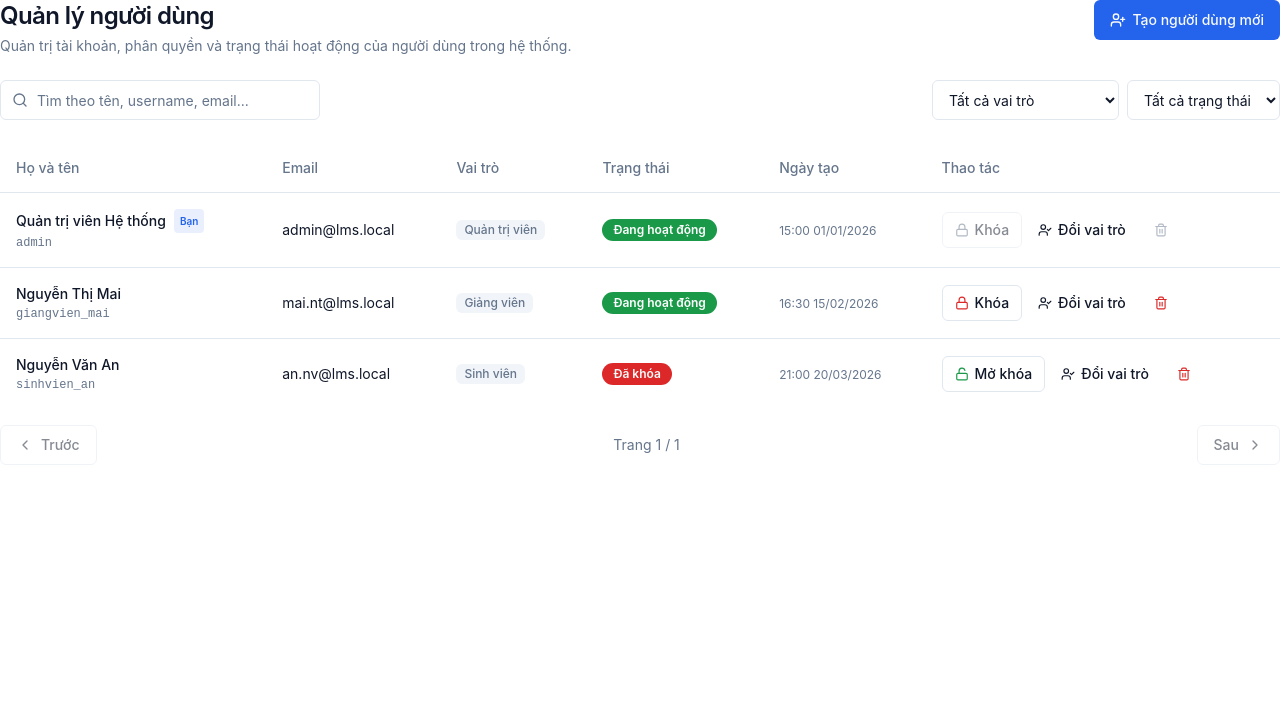
it: AdminUsersPage (US-02 Quản lý người dùng) › handles HTTP errors (401, 403, 422, 429) when creating a user
Expected: the text "Nguyễn Thị Mai" is shown, [16,284,121,304]
Click the button "Tạo người dùng mới" at [1187, 20], box [1094,0,1279,40]
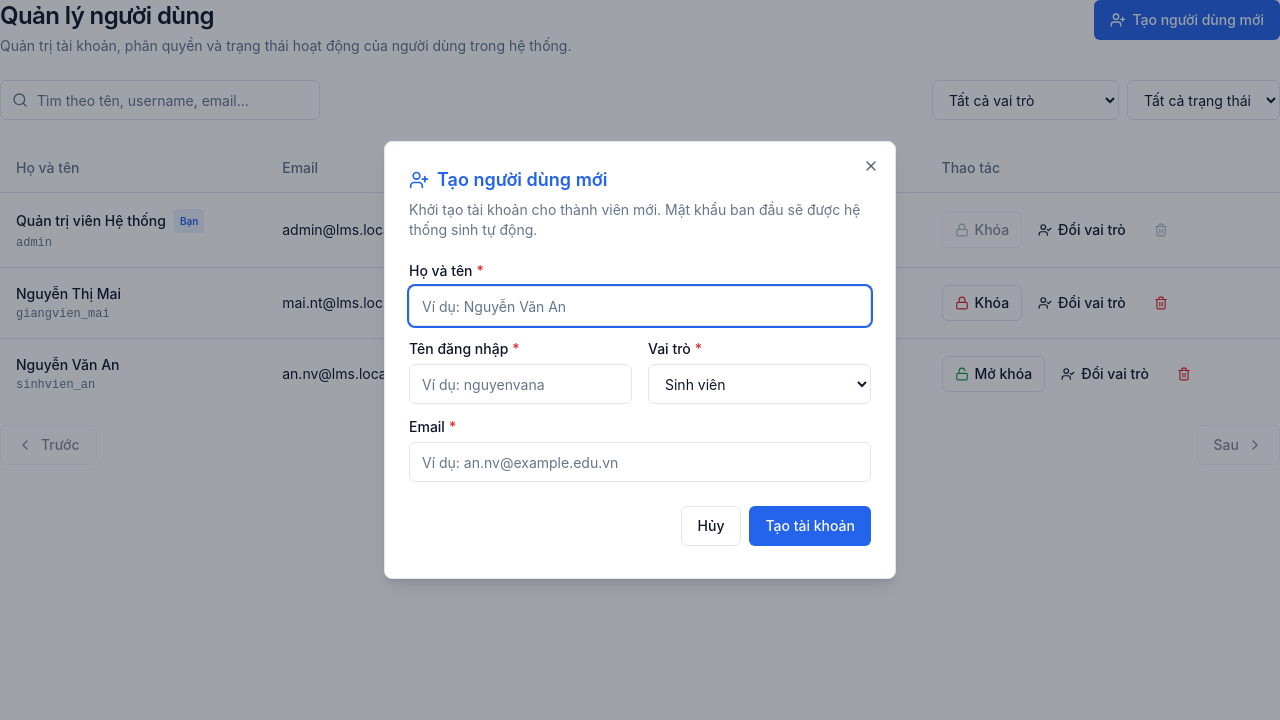
Type "Test Error" into the field labelled "Họ và tên*" at [640, 306], box [409,286,871,326]
Type "testerror" into the field labelled "Tên đăng nhập*" at [520, 384], box [409,364,632,404]
Type "test@lms.local" into the field labelled "Email*" at [640, 462], box [409,442,871,482]
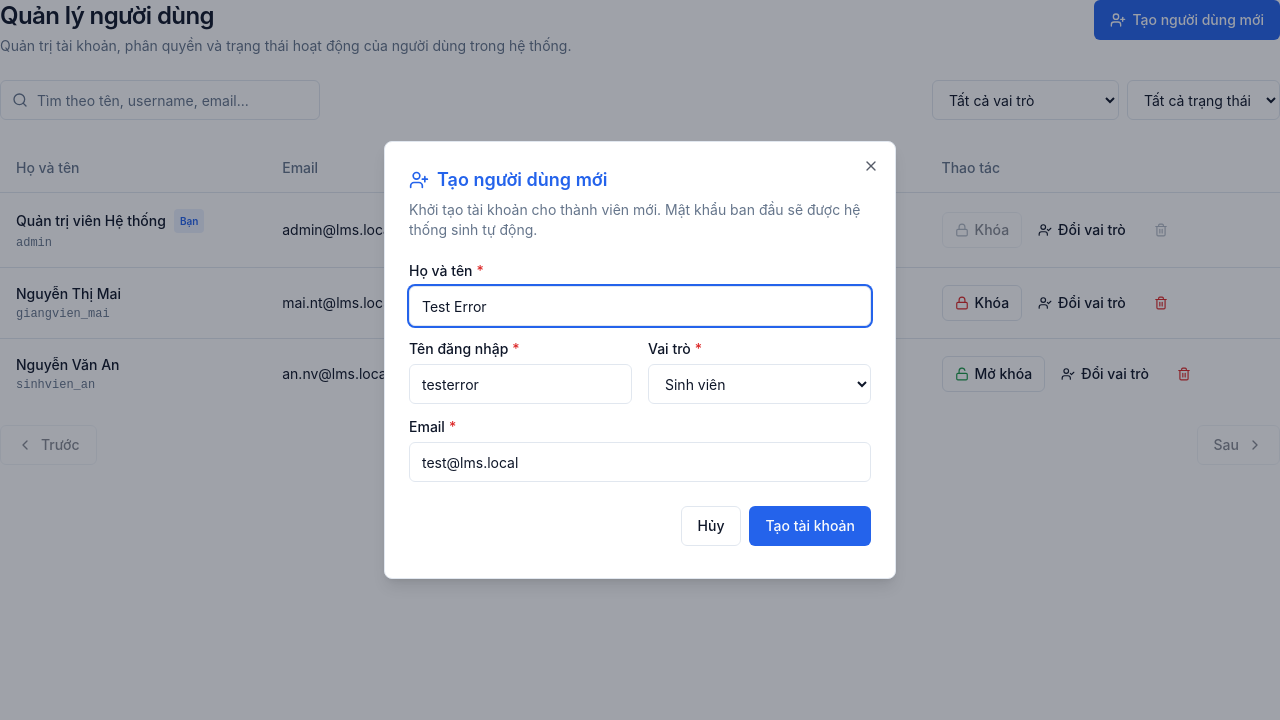
Click the button "Tạo tài khoản" at [810, 526], box [750,506,871,546]
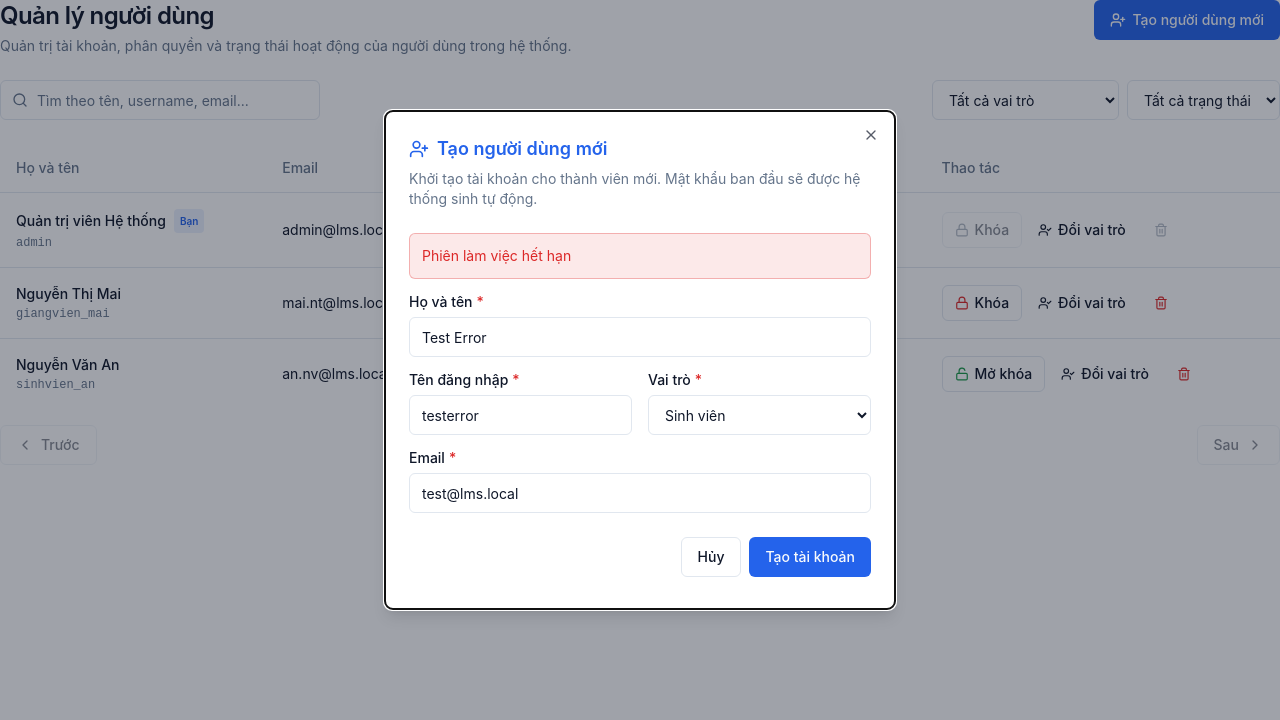
Expected: the text "Phiên làm việc hết hạn" is shown, [409,233,871,279]
Click the button "Tạo tài khoản" at [810, 557], box [750,537,871,577]
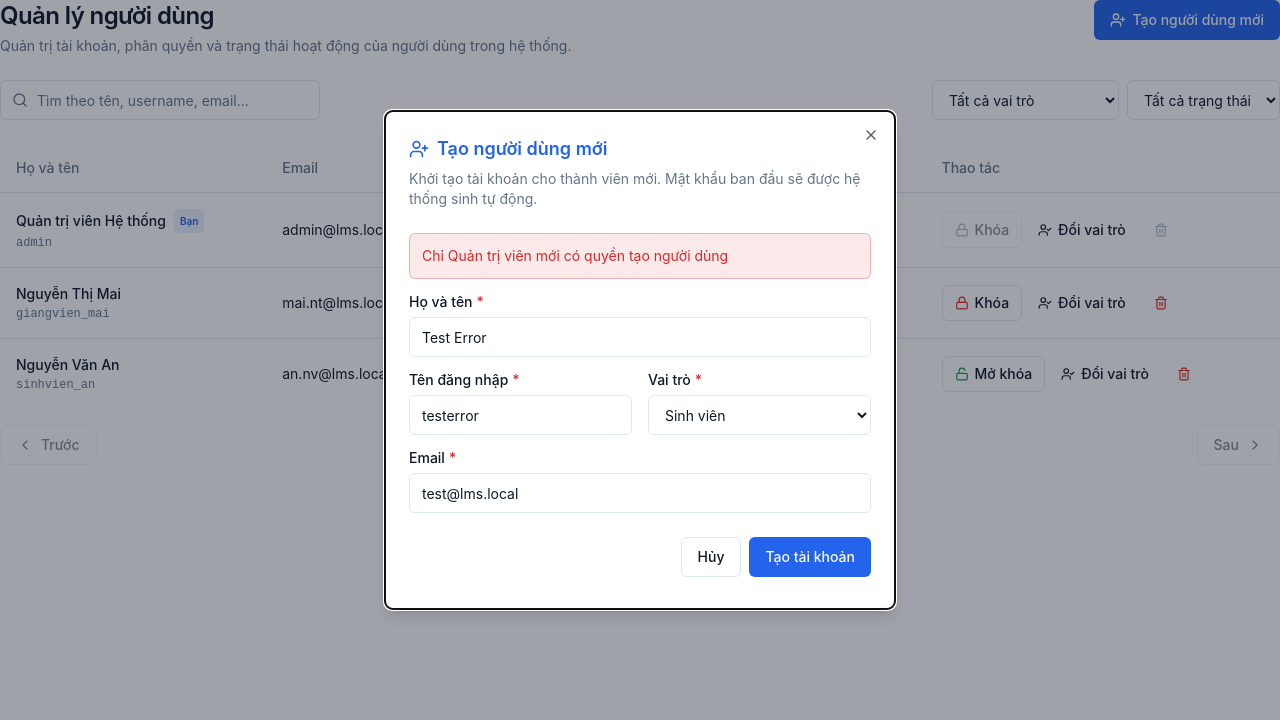
Expected: the text "Chỉ Quản trị viên mới có quyền tạo người dùng" is shown, [409,233,871,279]
Click the button "Tạo tài khoản" at [810, 557], box [750,537,871,577]
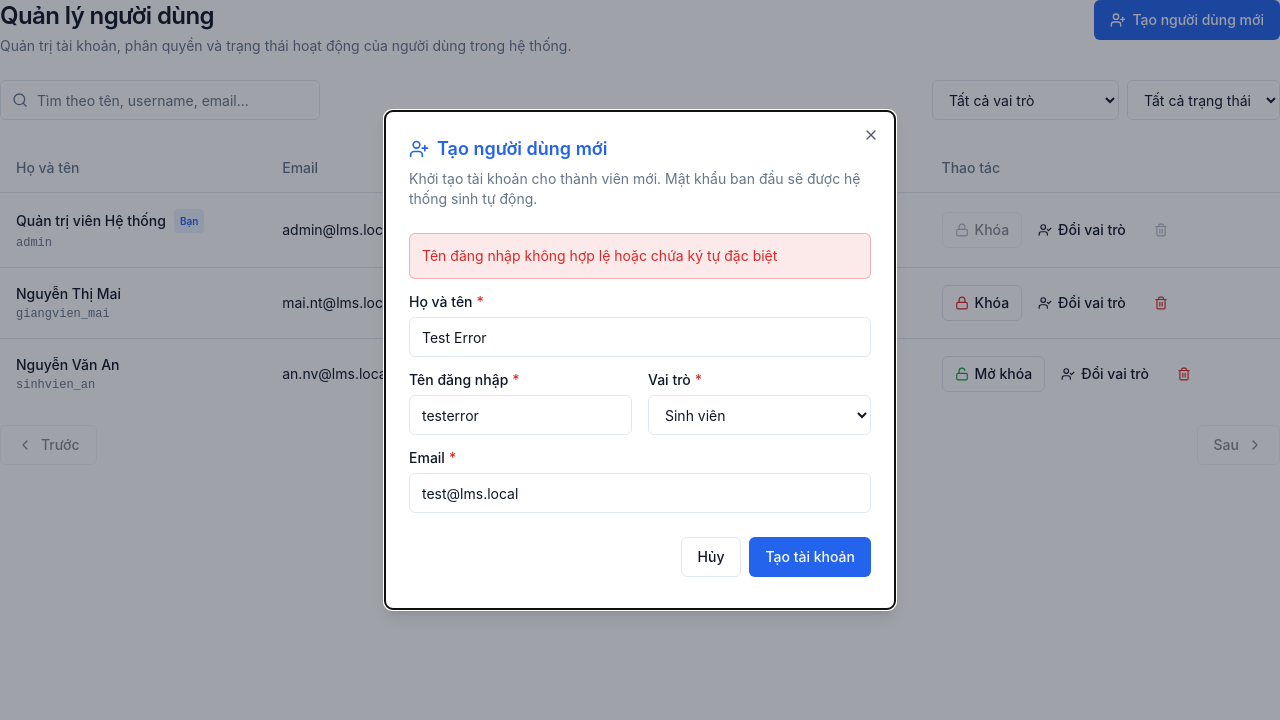
Expected: the text "Tên đăng nhập không hợp lệ hoặc chứa ký tự đặc biệt" is shown, [409,233,871,279]
Click the button "Tạo tài khoản" at [810, 557], box [750,537,871,577]
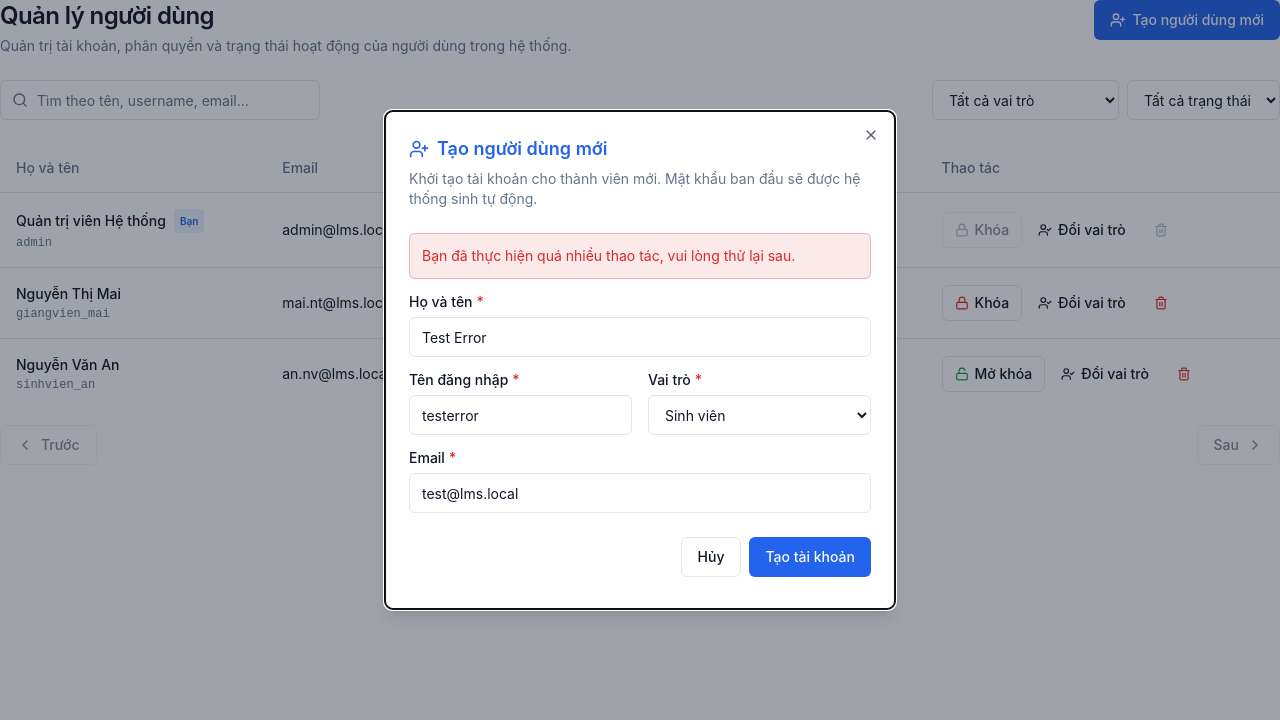
Expected: the text "Bạn đã thực hiện quá nhiều thao tác, vui lòng thử lại sau." is shown, [409,233,871,279]
